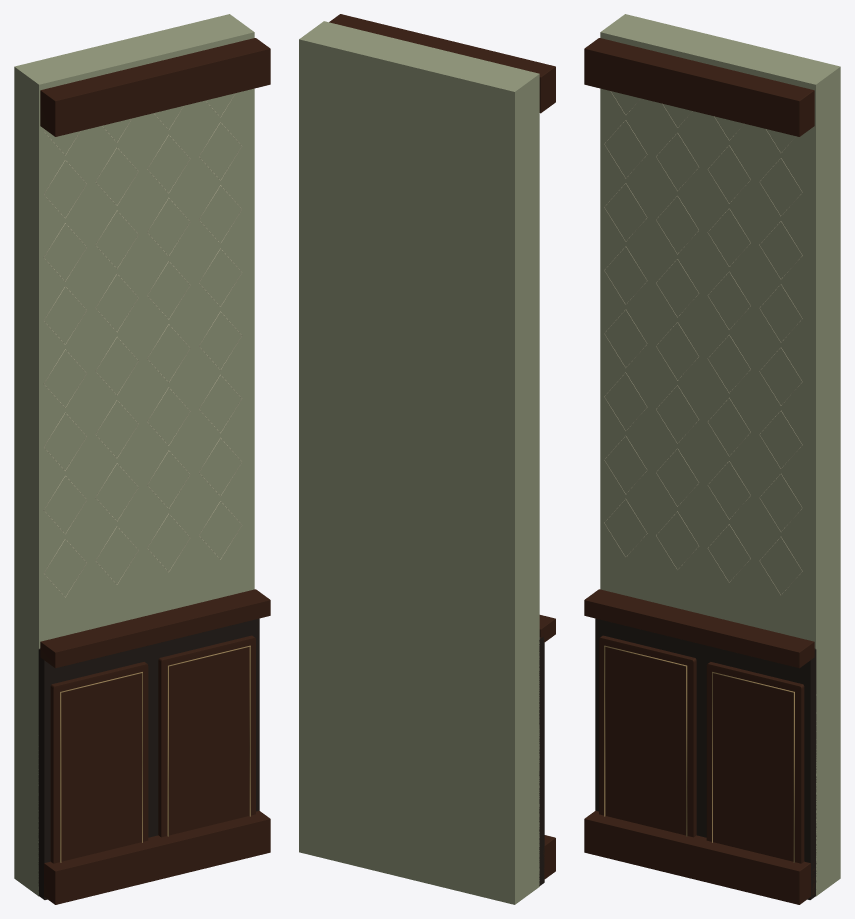
The model's file is Wall_Panel_1m.fbx.
The picture shows the model from 3 angles, left to right: view 1: azimuth 30°, elevation 25°; view 2: azimuth 150°, elevation 25°; view 3: azimuth 330°, elevation 25°; orthographic projection.
Parts seen in each view (by area): view 1: Plaster wall.002, Raised wooden panel.020, Raised wooden panel.021, Wall trim.008, Wall trim.006, Wainscot backing.002, Wall trim.007, Panel moulding.115, Panel moulding.114; view 2: Plaster wall.002, Wall trim.008, Wainscot backing.002; view 3: Plaster wall.002, Raised wooden panel.021, Raised wooden panel.020, Wall trim.008, Wall trim.006, Wainscot backing.002, Wall trim.007, Panel moulding.114, Panel moulding.115.
Part boxes in pixels (x1,y1,x2,y2): Plaster wall.002: (14,14,254,896); Raised wooden panel.020: (50,662,148,863); Raised wooden panel.021: (158,635,255,837); Wall trim.008: (40,38,270,136); Wall trim.006: (44,810,270,904); Wainscot backing.002: (38,618,259,899); Wall trim.007: (40,589,270,668); Panel moulding.115: (167,645,250,836); Panel moulding.114: (60,671,142,862); Plaster wall.002: (299,21,539,904); Wall trim.008: (329,14,555,113); Wainscot backing.002: (539,637,544,885); Plaster wall.002: (600,14,840,896); Raised wooden panel.021: (706,662,804,863); Raised wooden panel.020: (599,635,696,837); Wall trim.008: (584,38,814,136); Wall trim.006: (584,810,814,904); Wainscot backing.002: (595,618,816,899); Wall trim.007: (584,589,814,668); Panel moulding.114: (604,645,687,836); Panel moulding.115: (712,671,794,862).
Size of the model in its own units: 1 by 3.6 by 0.33.
